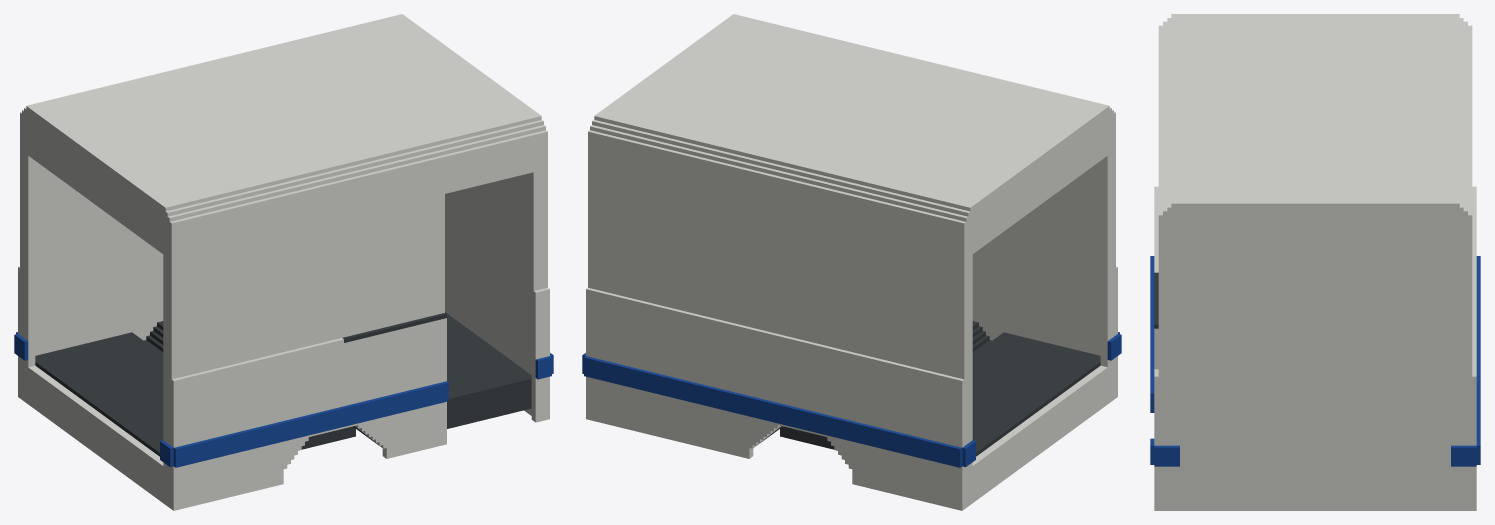
The model's file is cube_van_box.glb.
3 views of the same model, side by side, from view 1: azimuth 30°, elevation 25°; view 2: azimuth 150°, elevation 25°; view 3: azimuth 270°, elevation 25° (orthographic). The views are drawn at different scales.
Visible parts, largest first — view 1: body:compound; view 2: body:compound; view 3: body:compound.
Boxes of the visible parts, box(x1,y1,x2,y2) form: body:compound: box(14, 14, 553, 510); body:compound: box(582, 14, 1121, 510); body:compound: box(1150, 14, 1480, 510).
Bounding box in the file's own units: 3.38 × 2.5 × 2.44.
